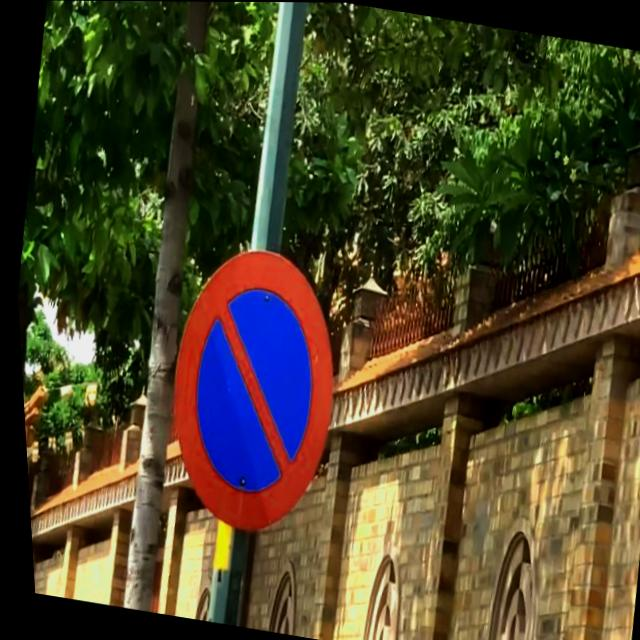Cam do xe: (140, 234, 358, 545)
